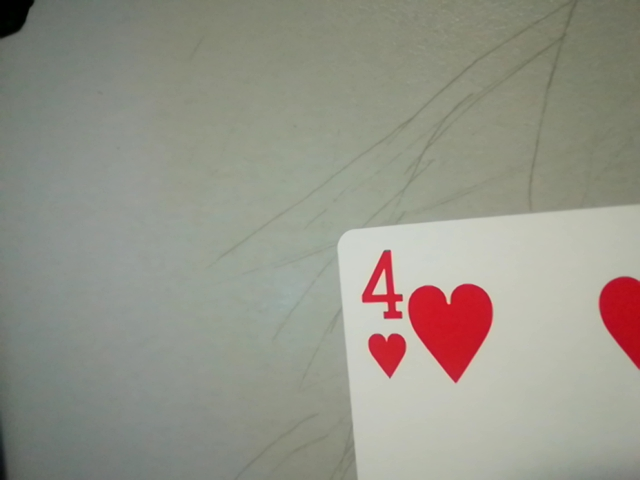hx 4: (350, 243, 411, 388)
